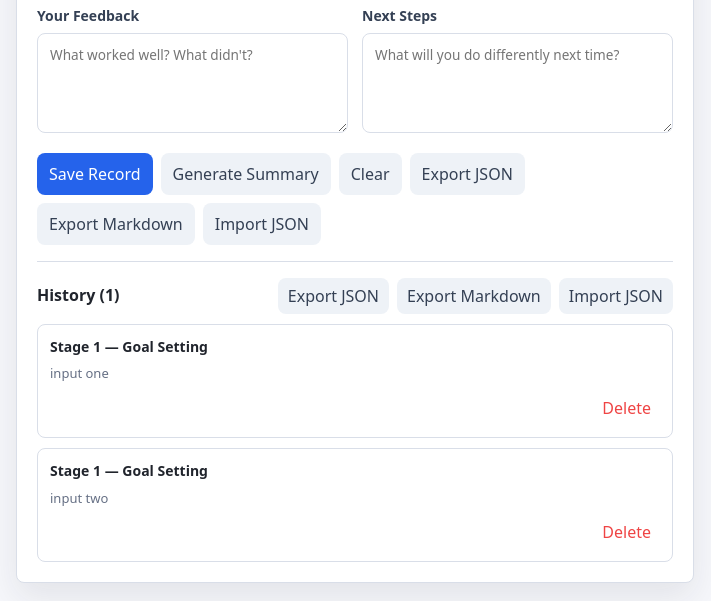
it: CodeAgentFlowVizPlugin › does not decrement the total below zero
(page scrolled)
Expected: the heading "History (1)" is shown, x1=37 y1=285 x2=120 y2=306
Click the 1st button "Delete": (627, 408) x1=593 y1=391 x2=660 y2=425
(page scrolled)
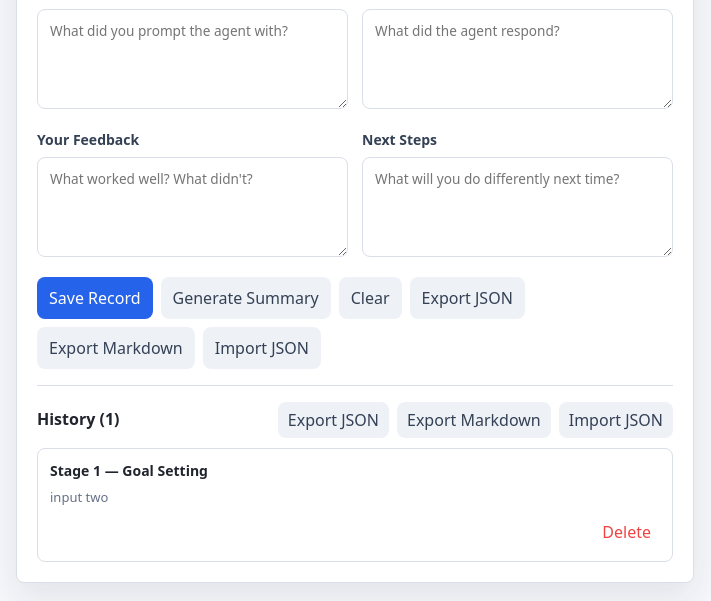
Now the text "input one" is gone
Click the button "Delete": (627, 532) x1=593 y1=515 x2=660 y2=549
(page scrolled)
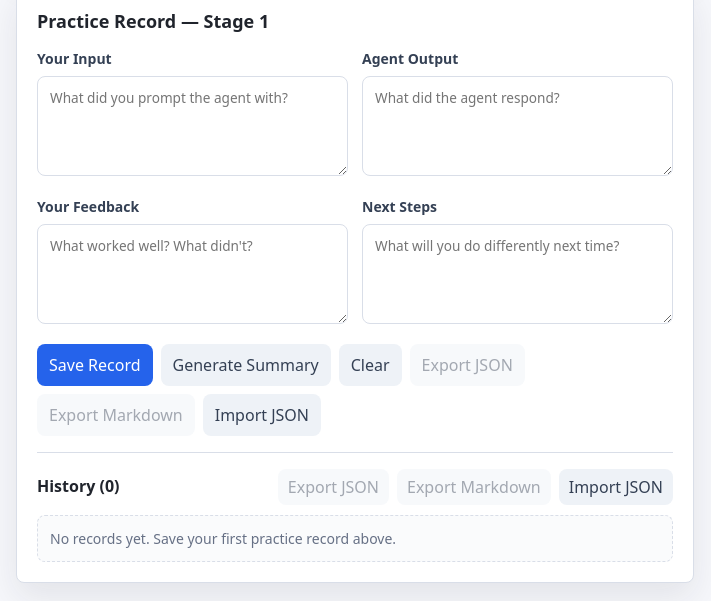
Now the heading "History (0)" is shown, box x1=37 y1=476 x2=120 y2=497
